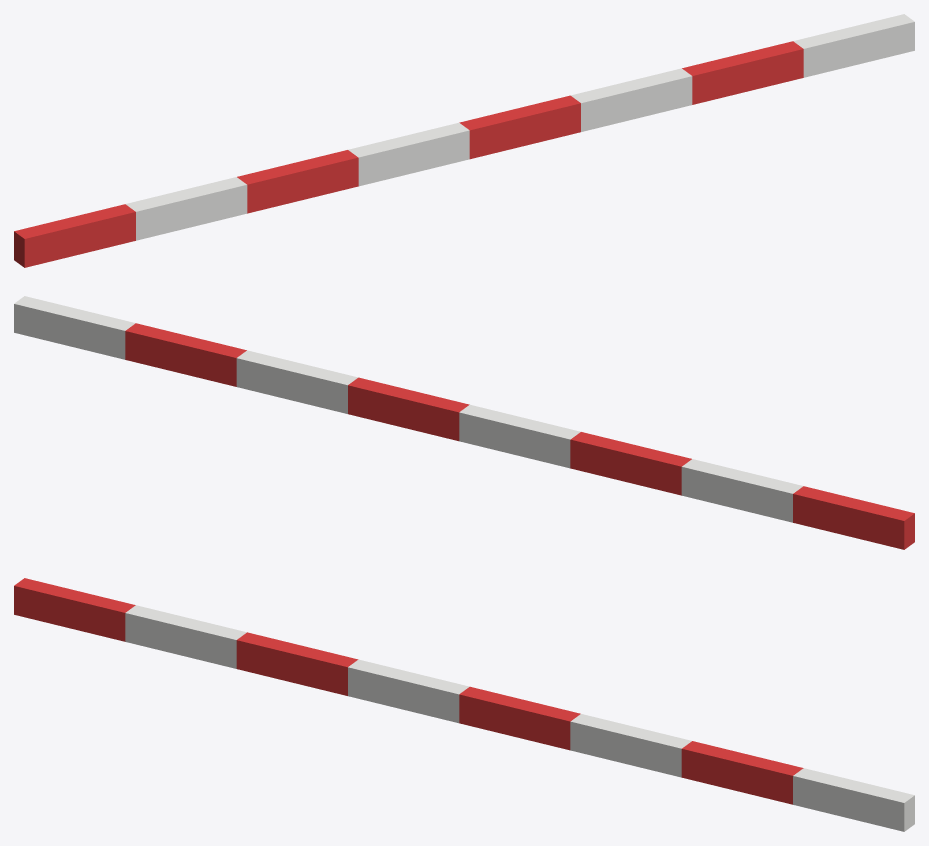
File: bras.glb
3 renders of one model, top to bottom at view 1: azimuth 30°, elevation 25°; view 2: azimuth 150°, elevation 25°; view 3: azimuth 330°, elevation 25°, orthographic.
Parts seen in each view (by area): view 1: bras; view 2: bras; view 3: bras.
Boxes of the visible parts, left/top/right/bottom form: bras: left=14, top=14, right=914, bottom=267; bras: left=14, top=296, right=914, bottom=549; bras: left=14, top=578, right=914, bottom=831.
Bounding box in the file's own units: 2.9 × 0.09 × 0.06.
